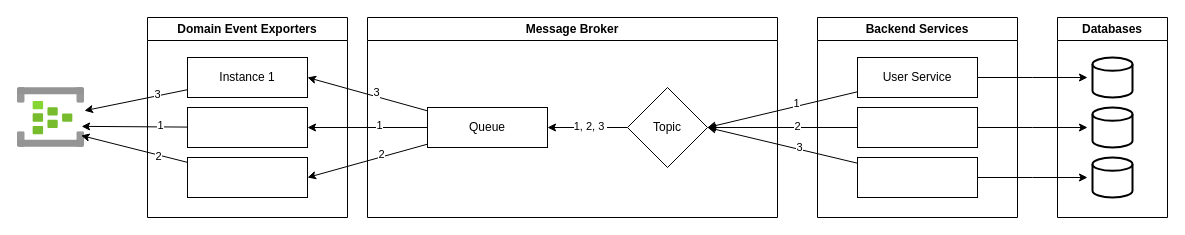
Some shapes in this 1185 by 235 pixel diagram are drawn without their labels. Each missing label, with the centre of its shape:
App Store Service: point (917, 127)
Asset Service: point (917, 177)
Instance 2: point (247, 127)
Instance 3: point (247, 177)
